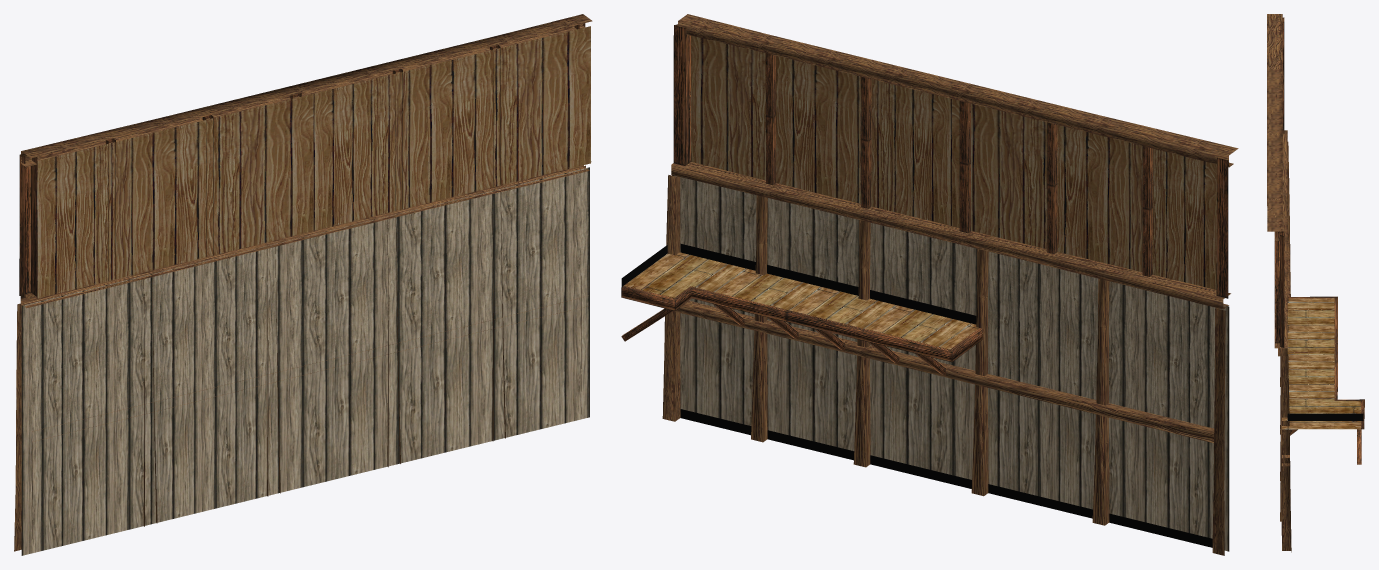
File: LAKETOWN_WAREHOUSE1_PS_WH1_SIDEWALL6645__GX.fbx
The picture shows the model from 3 angles, left to right: view 1: azimuth 30°, elevation 25°; view 2: azimuth 150°, elevation 25°; view 3: azimuth 270°, elevation 25°; orthographic projection. The views are drawn at different scales.
Parts seen in each view (by area): view 1: LAKETOWN_WAREHOUSE1_PS_WH1_SIDEWALL6645__GX; view 2: LAKETOWN_WAREHOUSE1_PS_WH1_SIDEWALL6645__GX; view 3: LAKETOWN_WAREHOUSE1_PS_WH1_SIDEWALL6645__GX.
Boxes of the visible parts, box(x1,y1,x2,y2) form: LAKETOWN_WAREHOUSE1_PS_WH1_SIDEWALL6645__GX: box(14, 14, 592, 555); LAKETOWN_WAREHOUSE1_PS_WH1_SIDEWALL6645__GX: box(621, 14, 1238, 555); LAKETOWN_WAREHOUSE1_PS_WH1_SIDEWALL6645__GX: box(1267, 14, 1364, 552).
Bounding box in the file's own units: 196867 × 132735 × 36620.
Materials: 6 (6 with a texture image).
